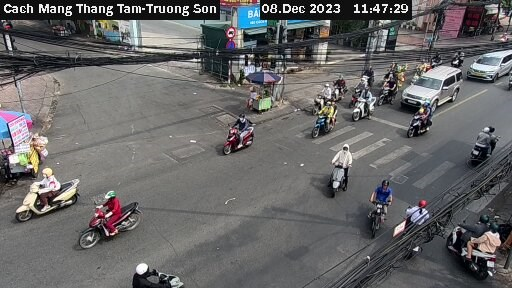car: (401, 63, 466, 111), (468, 45, 512, 84)
motorbike: (70, 186, 143, 249), (8, 165, 85, 215), (452, 214, 503, 278), (120, 254, 190, 288), (214, 110, 265, 155), (322, 139, 358, 197), (364, 179, 395, 235), (401, 198, 433, 252), (464, 119, 501, 165), (405, 99, 436, 145), (306, 105, 347, 137), (325, 69, 353, 102), (352, 90, 379, 121), (309, 83, 336, 111), (354, 65, 380, 91), (380, 73, 401, 105), (446, 47, 467, 70)
